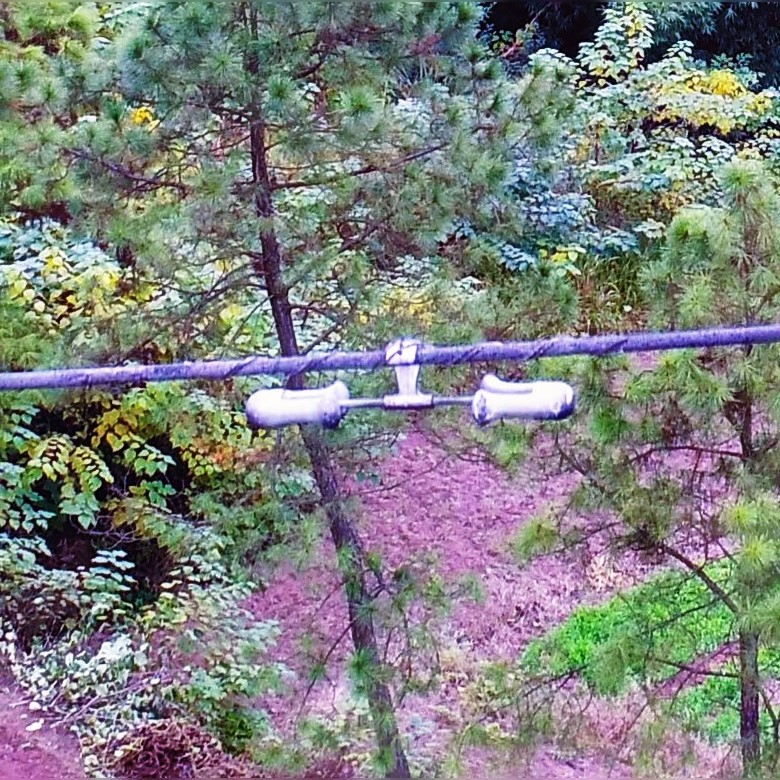Shockproof hammer: (232, 325, 585, 433)
